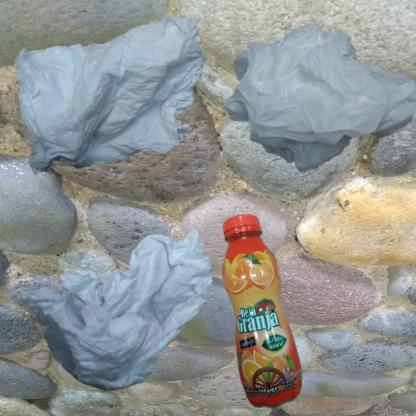bolsa: (213, 10, 416, 201)
botella: (213, 213, 314, 416)
papel: (10, 213, 219, 401), (10, 10, 226, 182)
